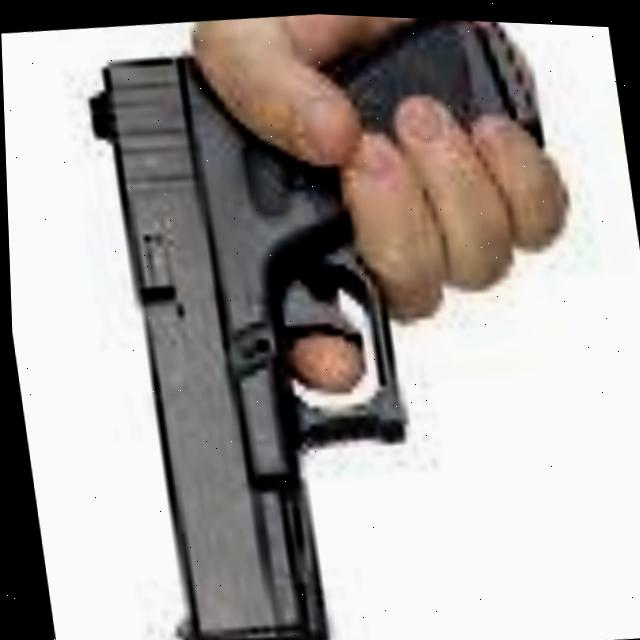pistol: (66, 2, 626, 640), (89, 11, 564, 640)
